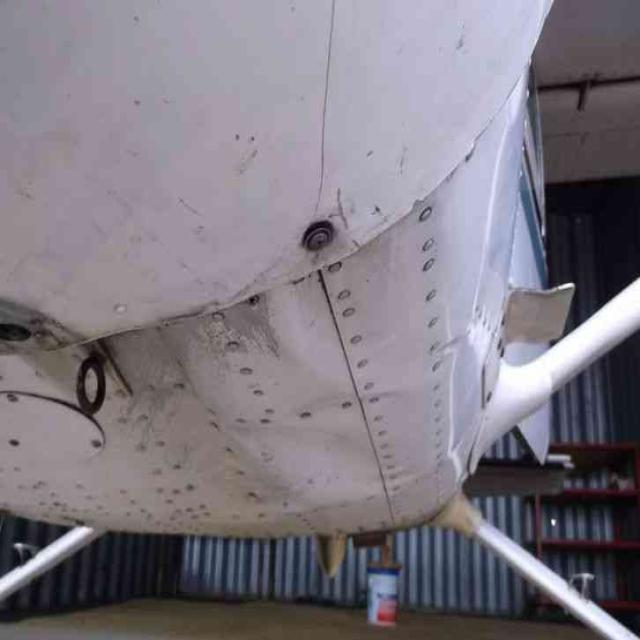Rupture: (309, 0, 340, 222)
